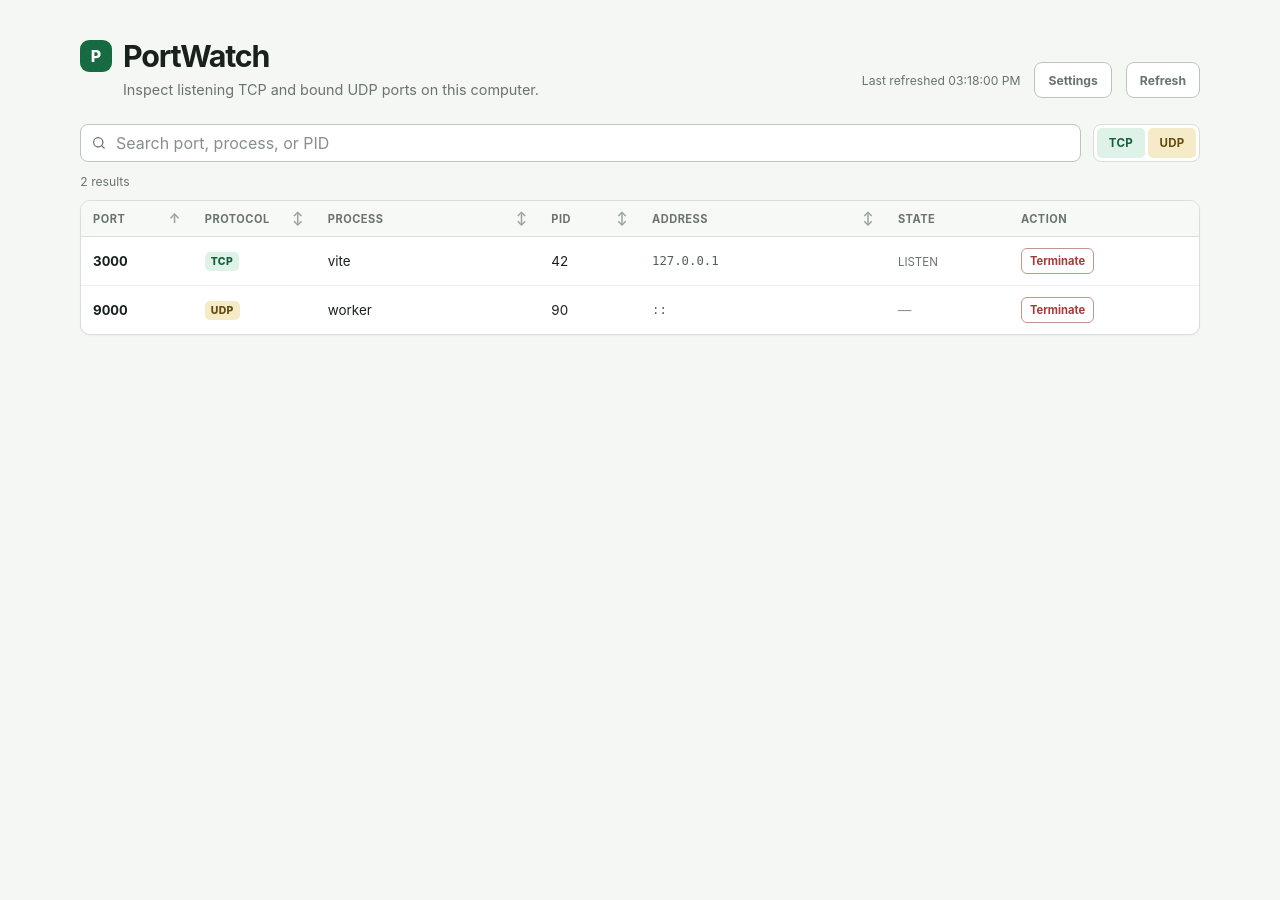
full view › offers force termination only after graceful failure and requires a second confirmation
This screenshot has width=1280, height=900.
Check: the text "vite" is shown, box left=328, top=253, right=351, bottom=269
Click the button with aria-label "Terminate vite on port 3000" at (1058, 261), box left=1021, top=248, right=1094, bottom=274
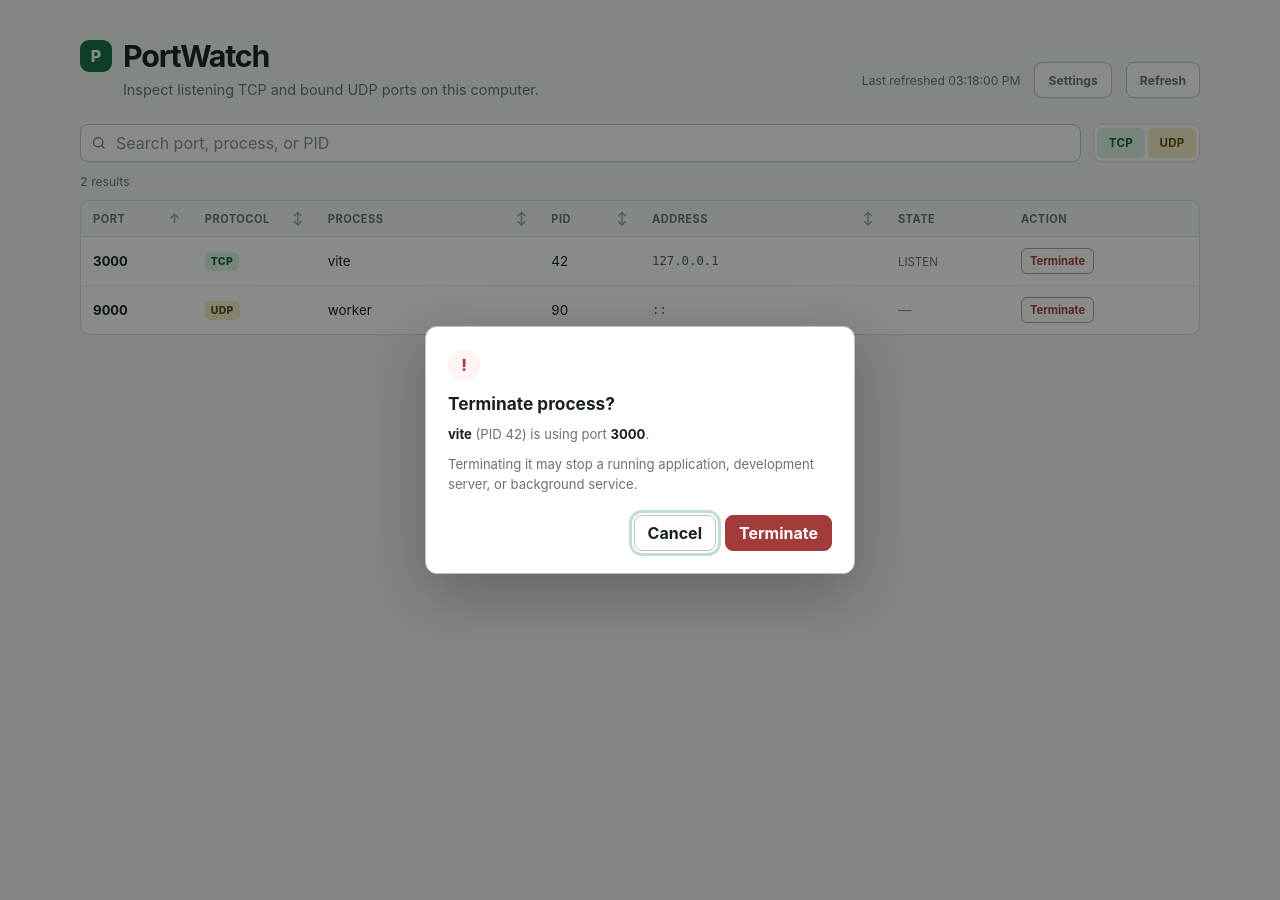
Check: the button "Force terminate" is not shown
Click the button "Terminate" at (778, 532), box left=725, top=514, right=832, bottom=550
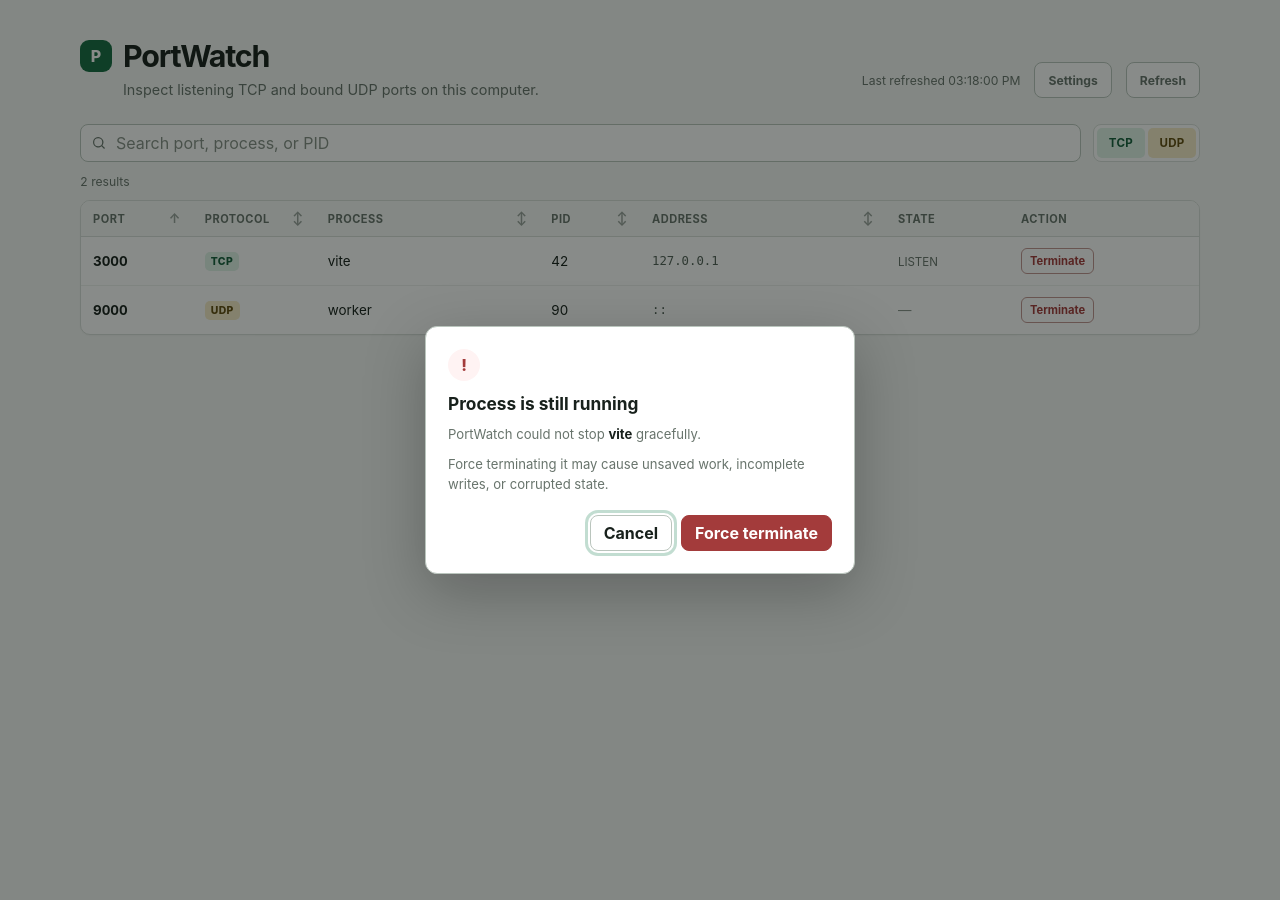
Check: the dialog "Process is still running" shows "unsaved work", box left=448, top=456, right=805, bottom=492
Click the button "Force terminate" at (757, 532), box left=681, top=514, right=832, bottom=550
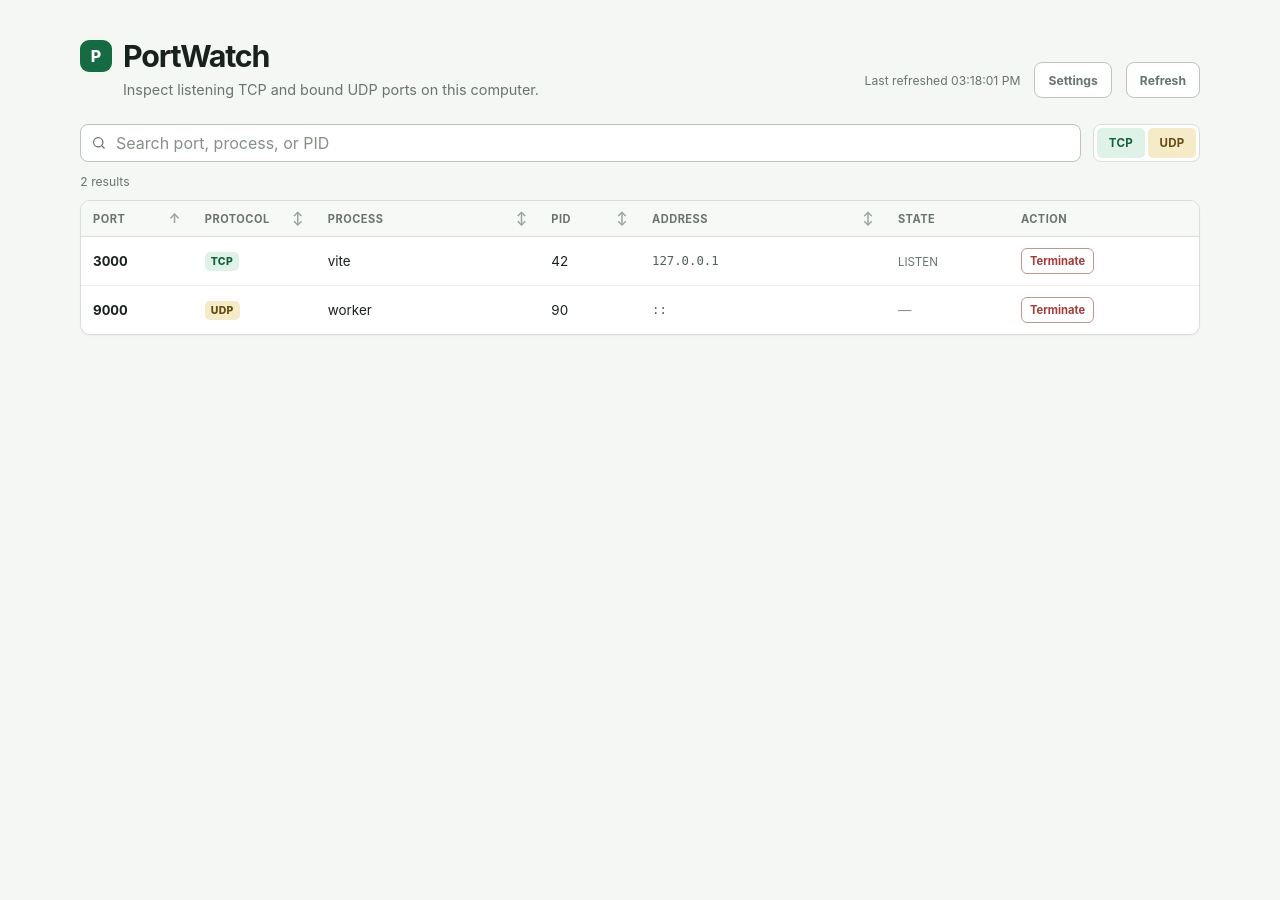
Check: the dialog is gone
